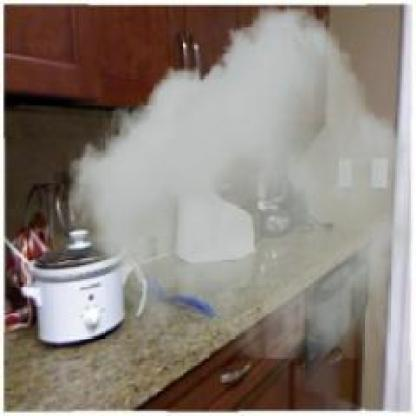Smoke: (69, 5, 415, 359)
